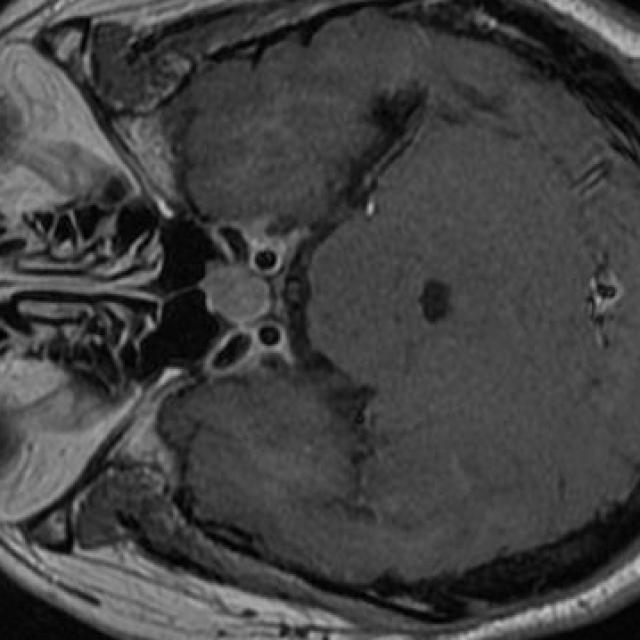pituitary: (203, 266, 266, 323)
